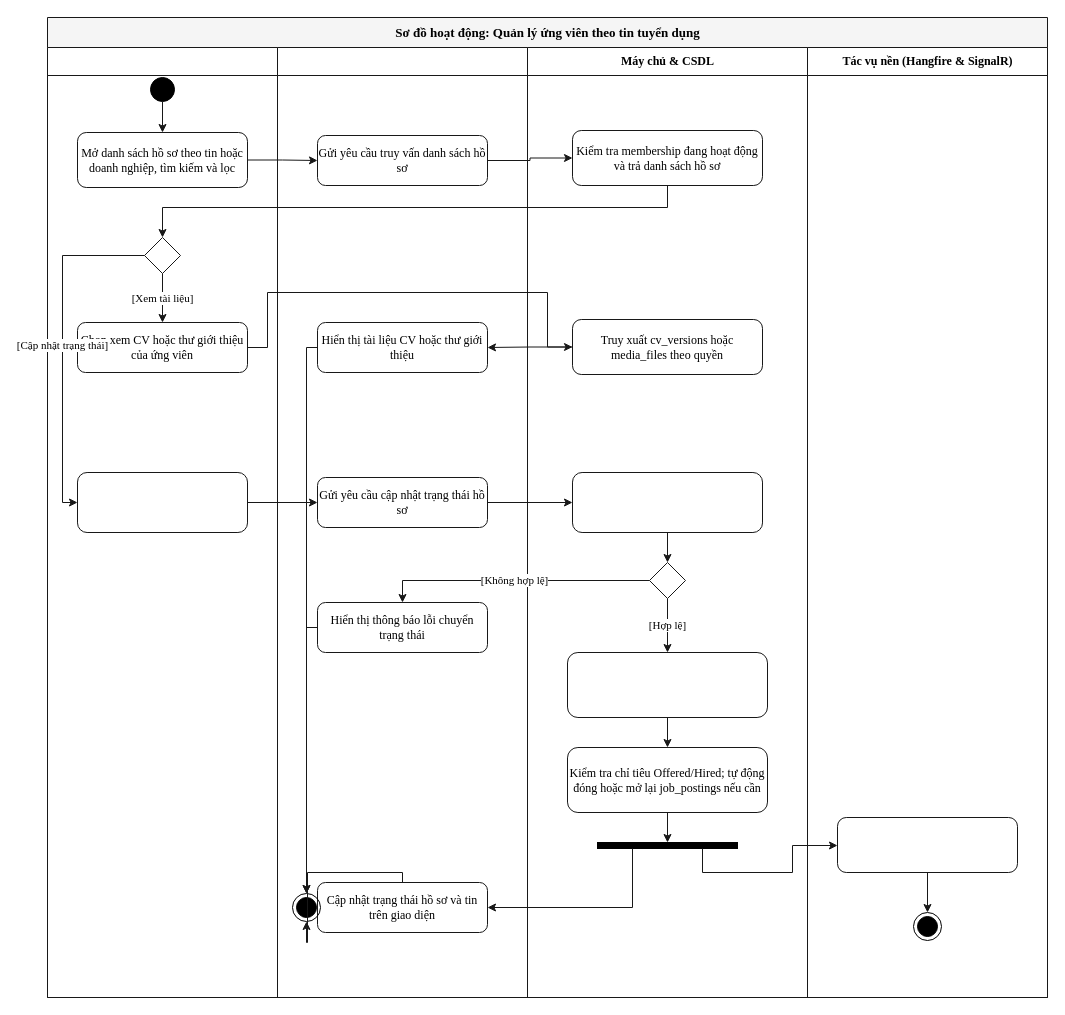
The diagram is 1065 pixels wide and 1015 high, and some of its shapes have lost their labels. The box of each missing label's shape, as (x1, y1, x2, y2) in pixels:
Chọn trạng thái mới, nhập ghi chú (tối đa 2.000 ký tự) và xác nhận: (76, 472, 248, 532)
Gửi thông báo cập nhật trạng thái đến ứng viên qua SignalR: (836, 816, 1018, 872)
Kiểm tra quyền, bước chuyển trạng thái hợp lệ và độ dài ghi chú: (572, 472, 762, 532)
Lưu applications, application_status_histories và notifications trong giao dịch: (566, 652, 768, 718)
Nhà tuyển dụng: (46, 46, 278, 998)
Ứng dụng Client: (276, 46, 528, 998)
